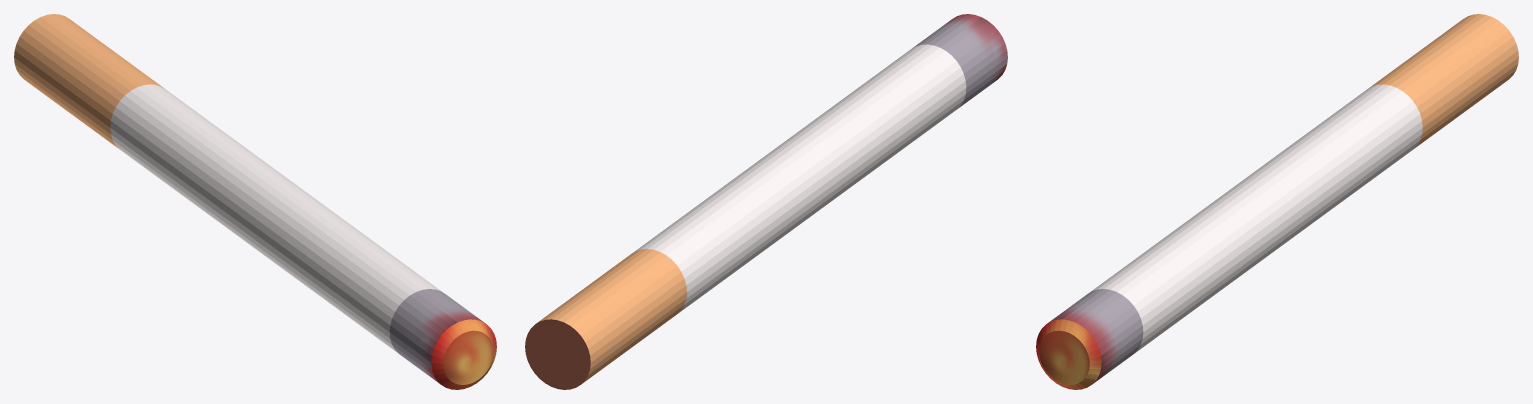
The model's file is cigarette.glb.
3 views of the same model, side by side, from view 1: azimuth 30°, elevation 25°; view 2: azimuth 150°, elevation 25°; view 3: azimuth 330°, elevation 25° (orthographic).
Visible parts, largest first — view 1: Cylinder; view 2: Cylinder; view 3: Cylinder.
Boxes of the visible parts, box(x1,y1,x2,y2) form: Cylinder: box(14, 14, 496, 389); Cylinder: box(525, 14, 1007, 389); Cylinder: box(1036, 14, 1518, 389).
Bounding box in the file's own units: 0.3121 × 0.3121 × 3.47.
Materials: 1 (1 with a texture image).
